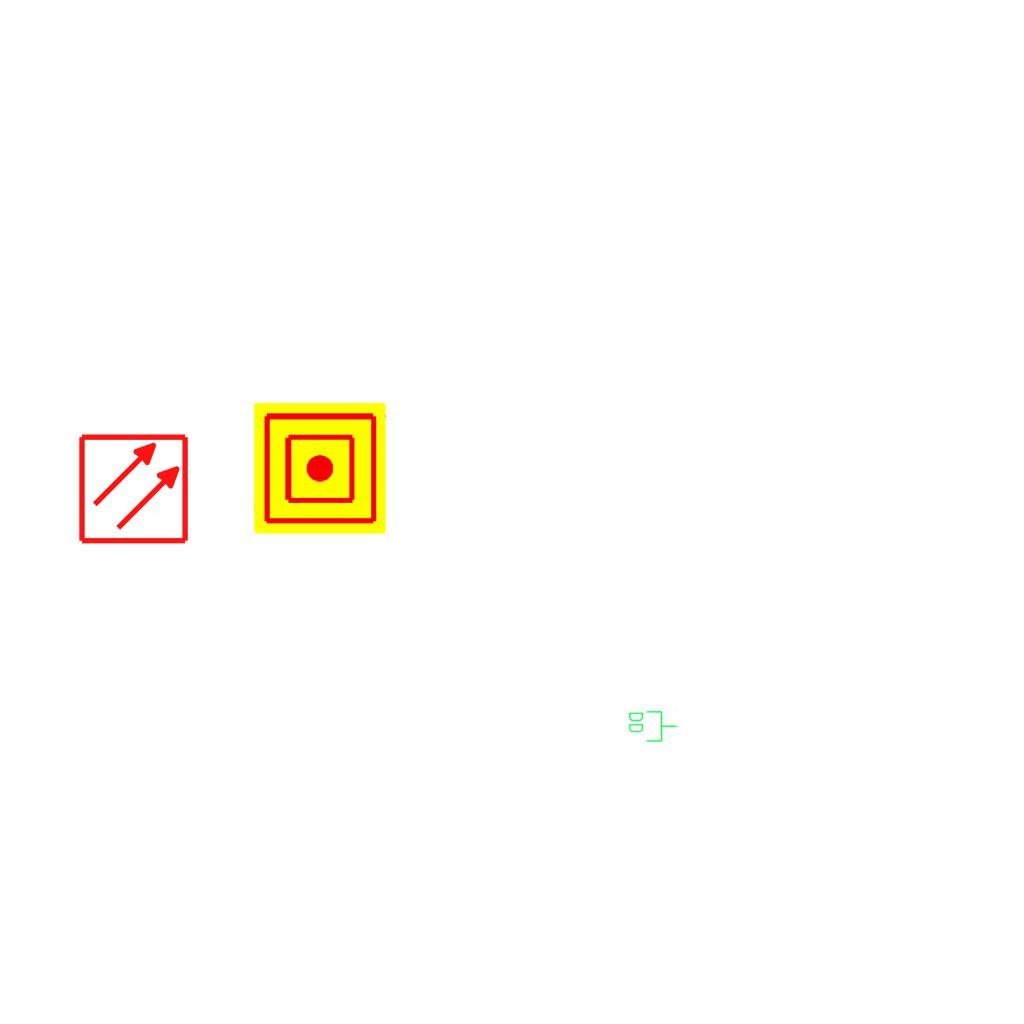Datenanschluss_zweifach: (627, 709, 678, 743)
NAM-Nichtautomatischer_Melder: (254, 402, 386, 534)
RMO_Rauchmelder_optischer: (77, 432, 190, 545)
